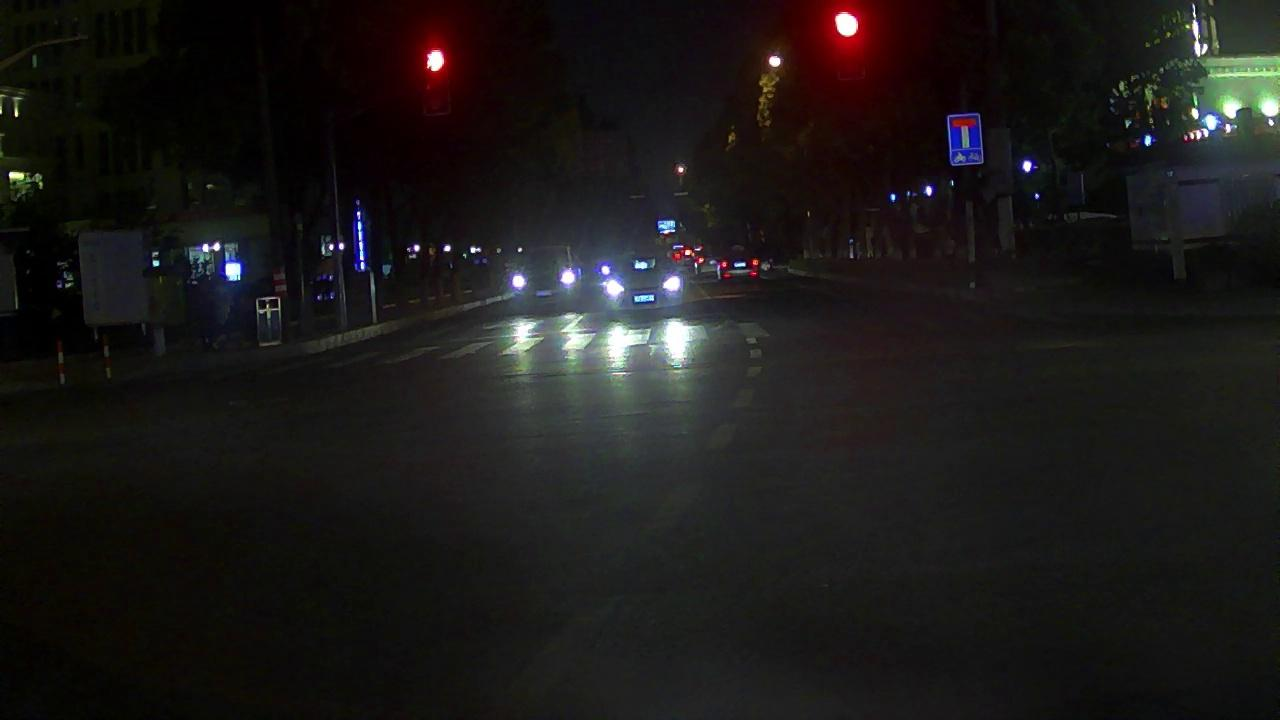traffic_light: (828, 2, 864, 50), (419, 45, 455, 78)
